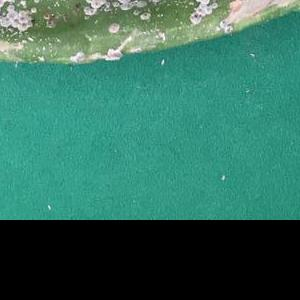Femea: (190, 12, 200, 23), (140, 11, 151, 19), (224, 24, 232, 33)
